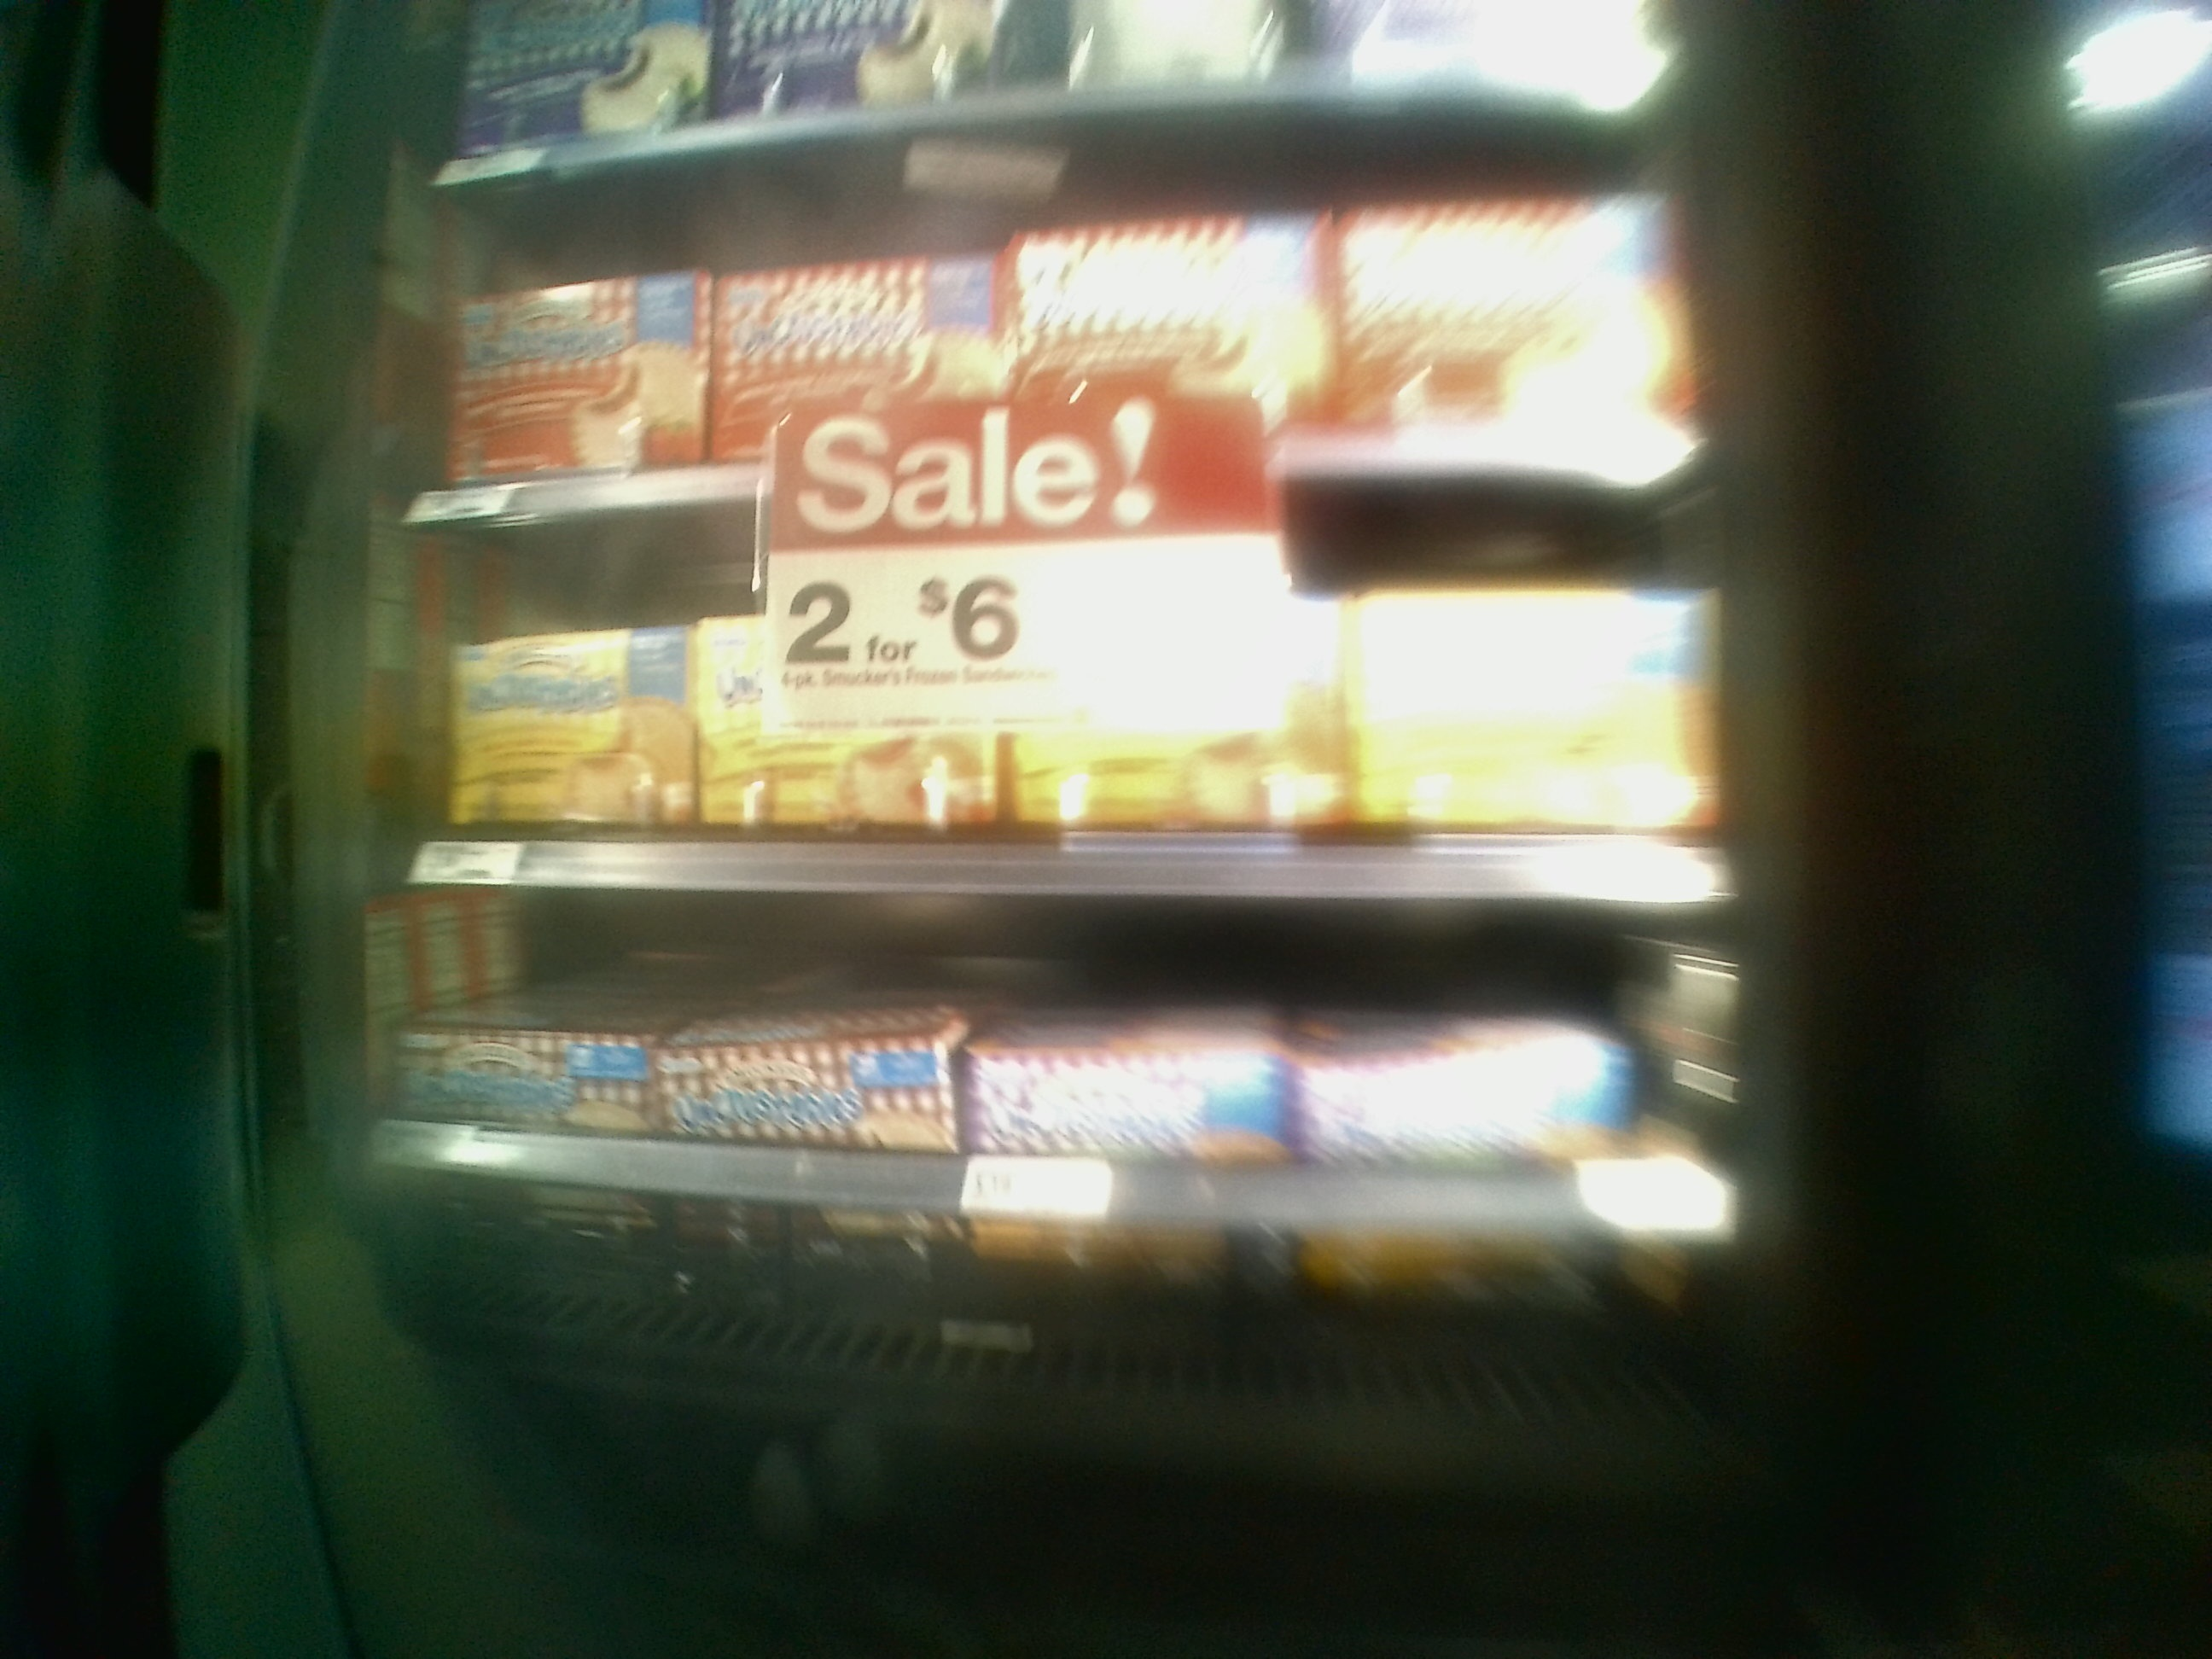shelf: (404, 854, 1731, 1310), (402, 495, 1710, 882), (430, 178, 1716, 530)
